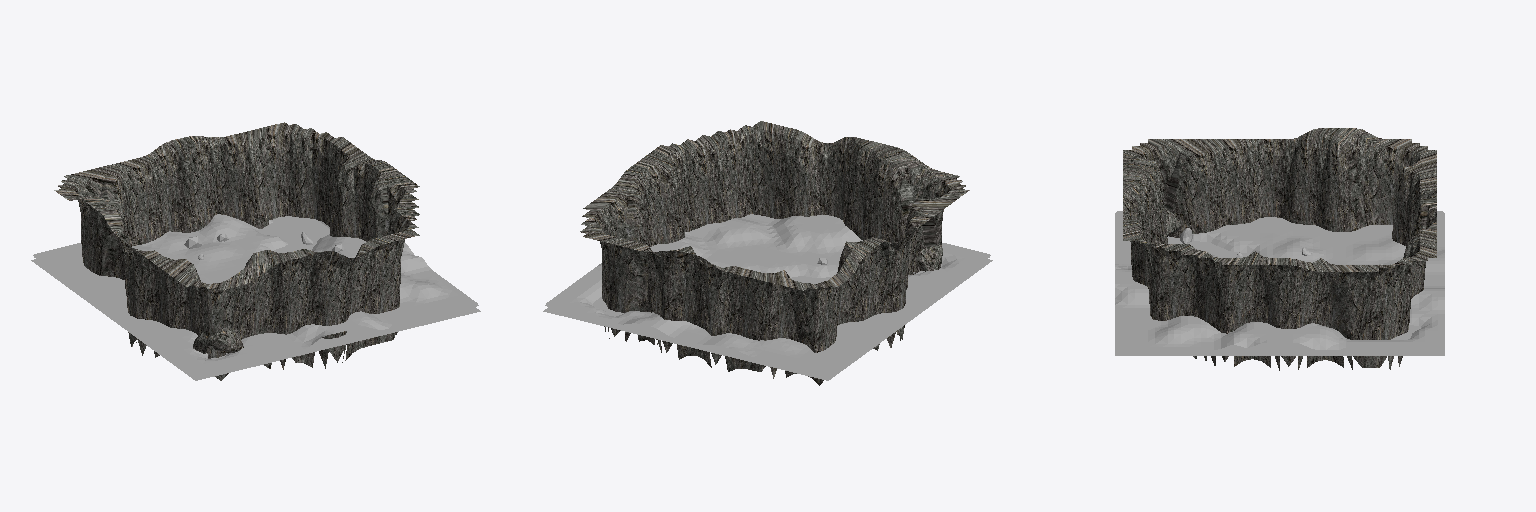
3 renders of one model, left to right at view 1: azimuth 30°, elevation 25°; view 2: azimuth 150°, elevation 25°; view 3: azimuth 270°, elevation 25°, orthographic.
Parts seen in each view (by area): view 1: Plane, Plane1, Plane2, Icosahedron154; view 2: Plane, Plane1, Plane2, Icosahedron154; view 3: Plane, Plane1, Plane2.
Part boxes in pixels (x1,y1,x2,y2): Plane: (54,122,419,380); Plane1: (33,214,478,374); Plane2: (31,216,480,380); Icosahedron154: (193,329,243,353); Plane: (580,121,969,385); Plane1: (545,214,990,374); Plane2: (543,259,992,380); Icosahedron154: (917,245,942,271); Plane: (1123,128,1436,370); Plane1: (1115,211,1444,349); Plane2: (1115,236,1444,355).
Size of the model in its own units: 52.68 by 22.5 by 52.68.
Materials: 5 (1 with a texture image).